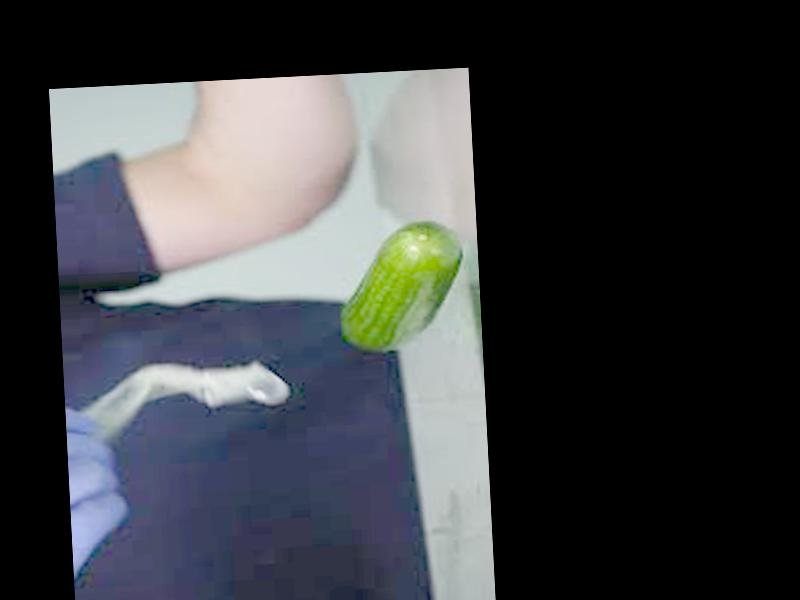Cucumber: (336, 219, 467, 352)
